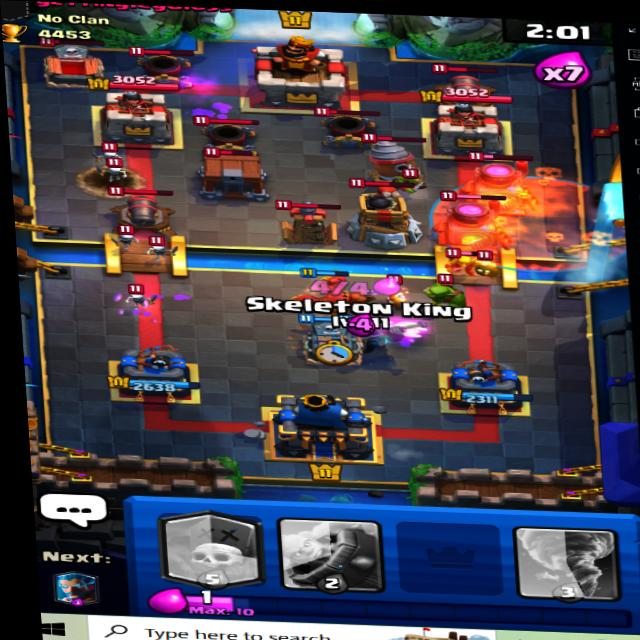bomb-tower: (345, 173, 433, 250)
brawler: (414, 276, 473, 313)
cannon: (427, 61, 506, 110), (103, 186, 172, 235)
fire-spirit: (471, 249, 513, 276)
furnace: (458, 146, 551, 221), (433, 186, 520, 255)
goblin: (443, 244, 477, 276)
goblin-cage: (194, 145, 274, 197)
goblin-drill: (350, 130, 432, 191)
mortar: (129, 35, 204, 87), (311, 104, 381, 152), (192, 115, 261, 150)
skeleton: (118, 282, 151, 308), (143, 232, 177, 256), (107, 226, 143, 244), (102, 142, 126, 163), (100, 162, 126, 179)
tesla: (272, 198, 346, 247)
tombstone: (29, 26, 120, 88)
